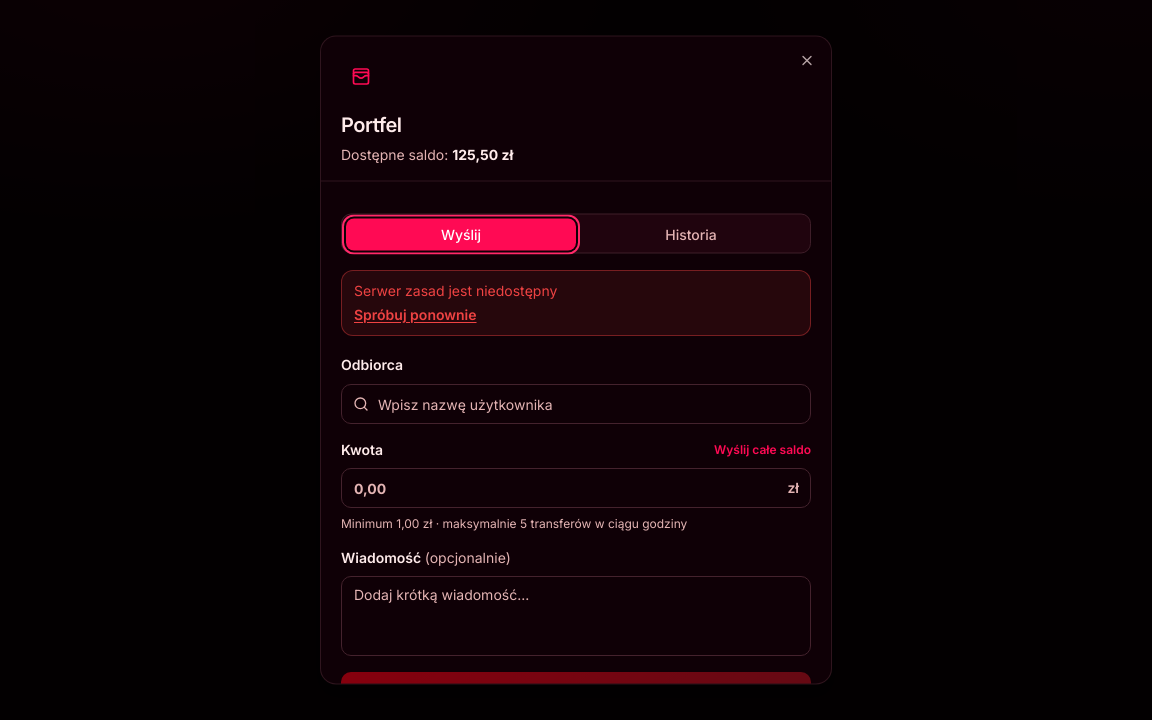
it: MoneyTransferDialog › shows a rules error and remains blocked until retry succeeds
This screenshot has width=1152, height=720.
Expected: the text "Serwer zasad jest niedostępny" is shown, [354,282,557,298]
Click the button "Spróbuj ponownie". click: (415, 314)
box: [354,304,476,324]
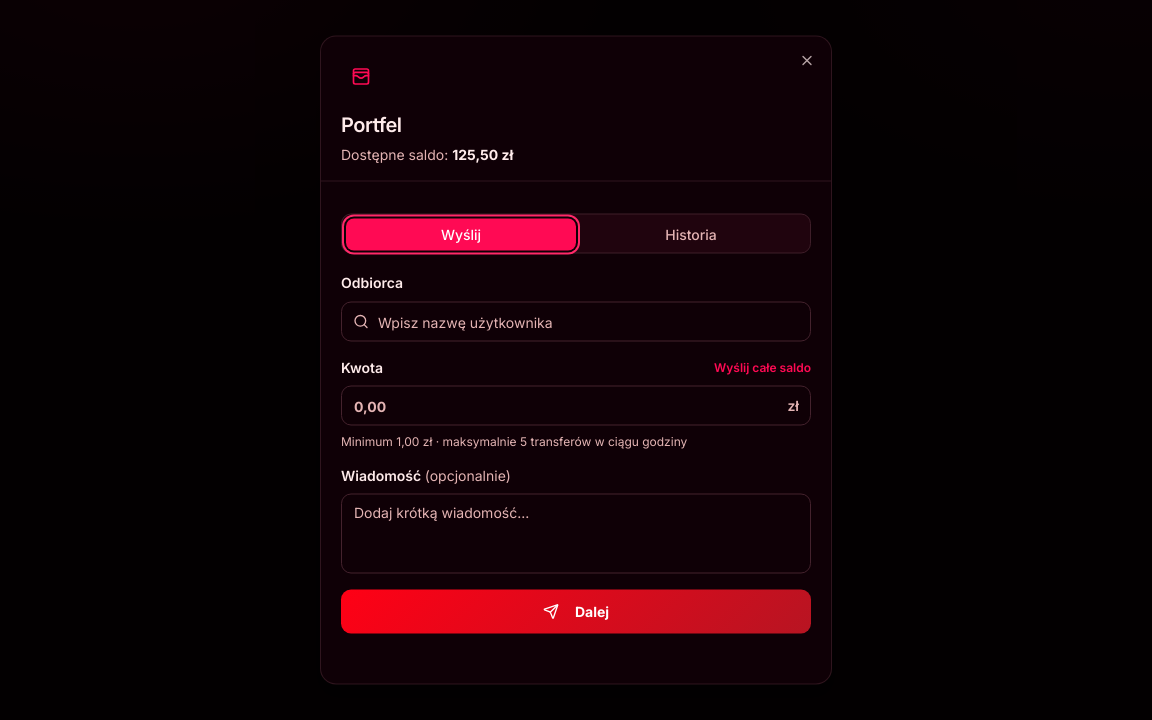
Now the button "Dalej" is enabled, box [341,590,811,634]
